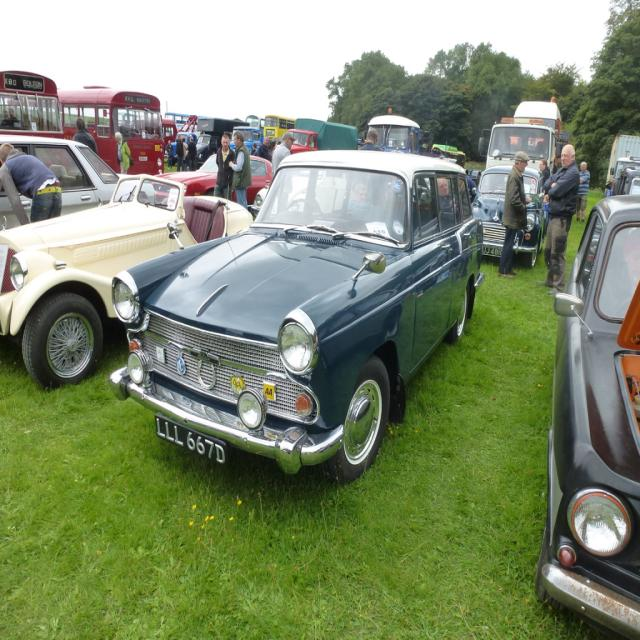car: (98, 155, 482, 483)
